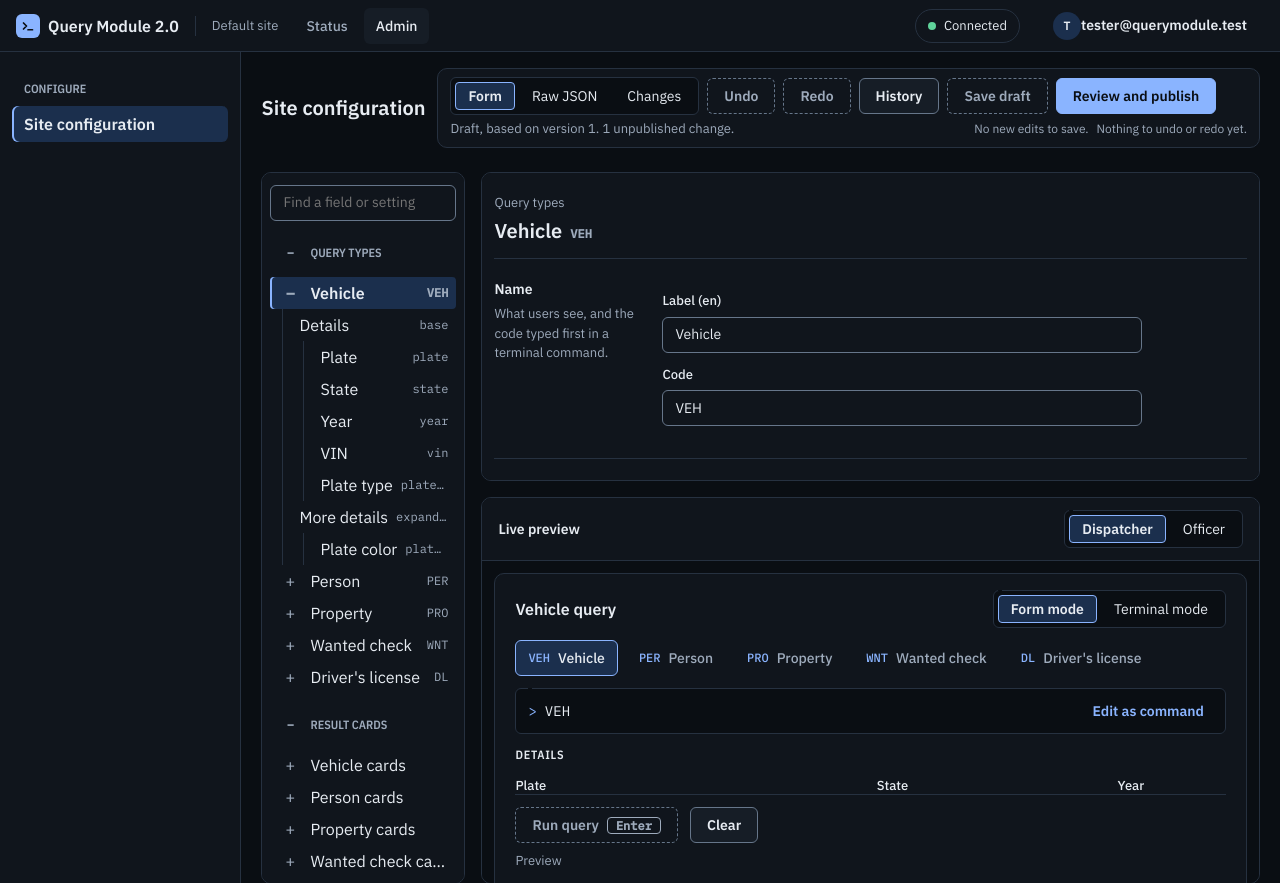
Test: the Changes view shows the live text it replaces (M1 exit Q1) › a changed live-only English label is Changed, from its live text
Expected: the tab "Form" is shown, top-left (456, 82), bottom-right (515, 110)
Click the tab "Changes": point(654, 96) top-left (614, 82), bottom-right (694, 110)
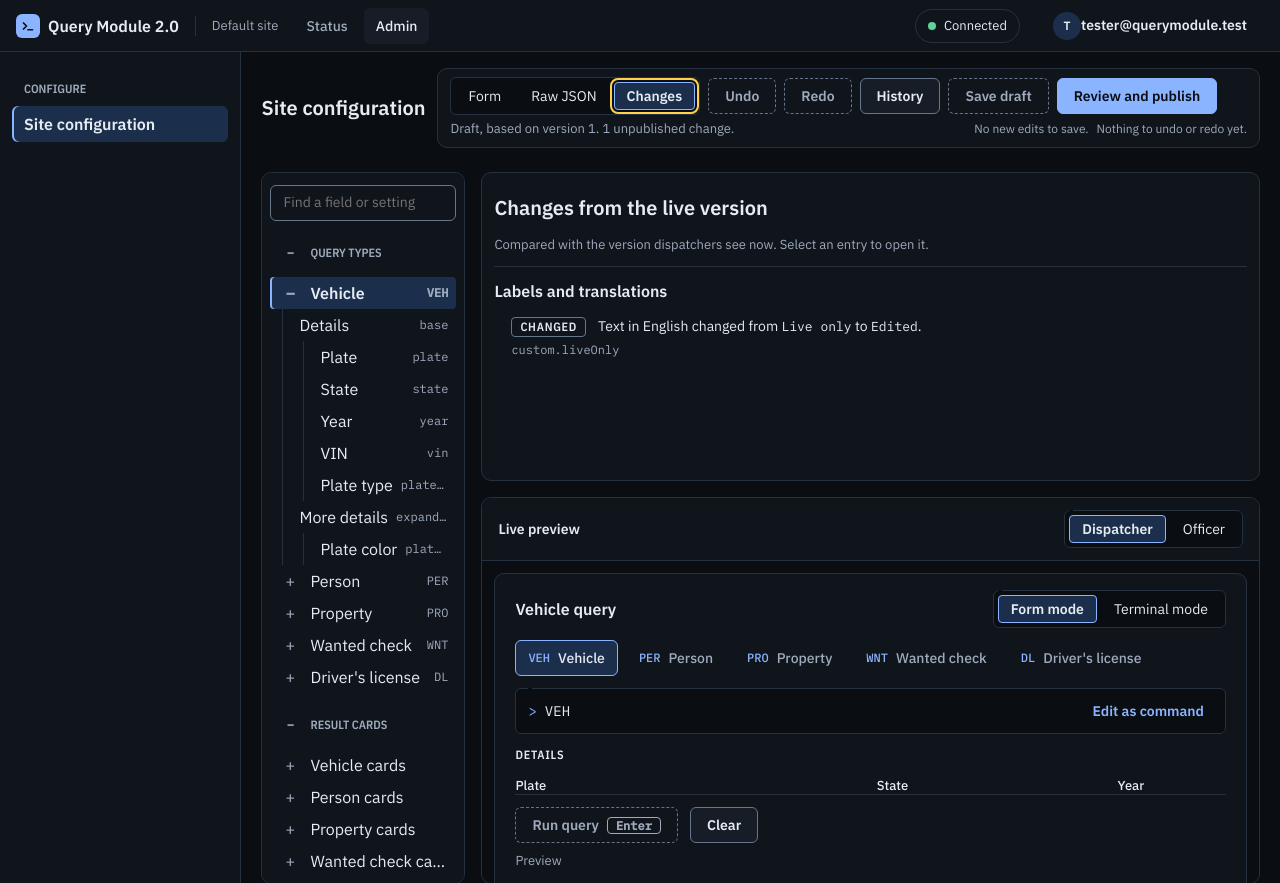
Expected: the list item "Text in " shows "Changed", top-left (494, 311), bottom-right (1247, 364)
Expected: the list item "Text in " shows "changed from Live only to Edited", top-left (494, 311), bottom-right (1247, 364)
